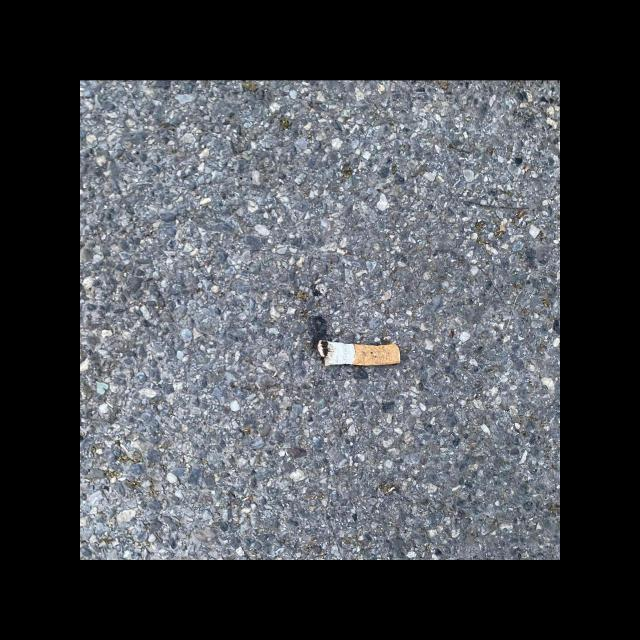cigarette: (317, 339, 401, 366)
